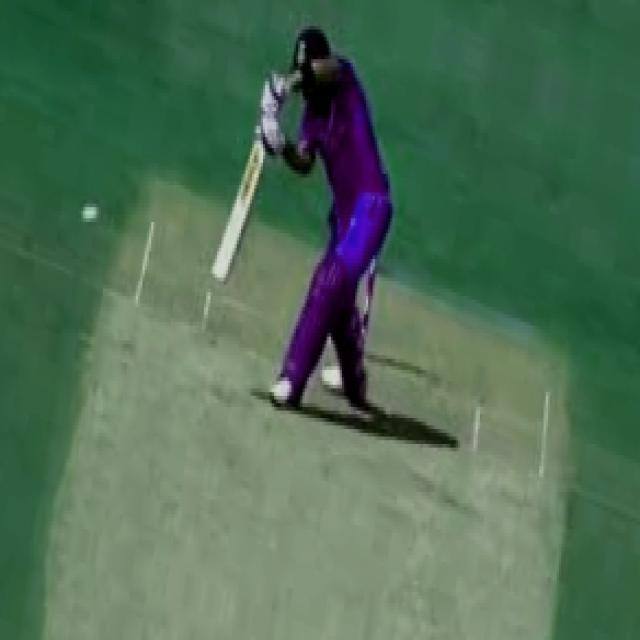bat: (204, 134, 266, 292)
toe: (205, 264, 228, 289)
